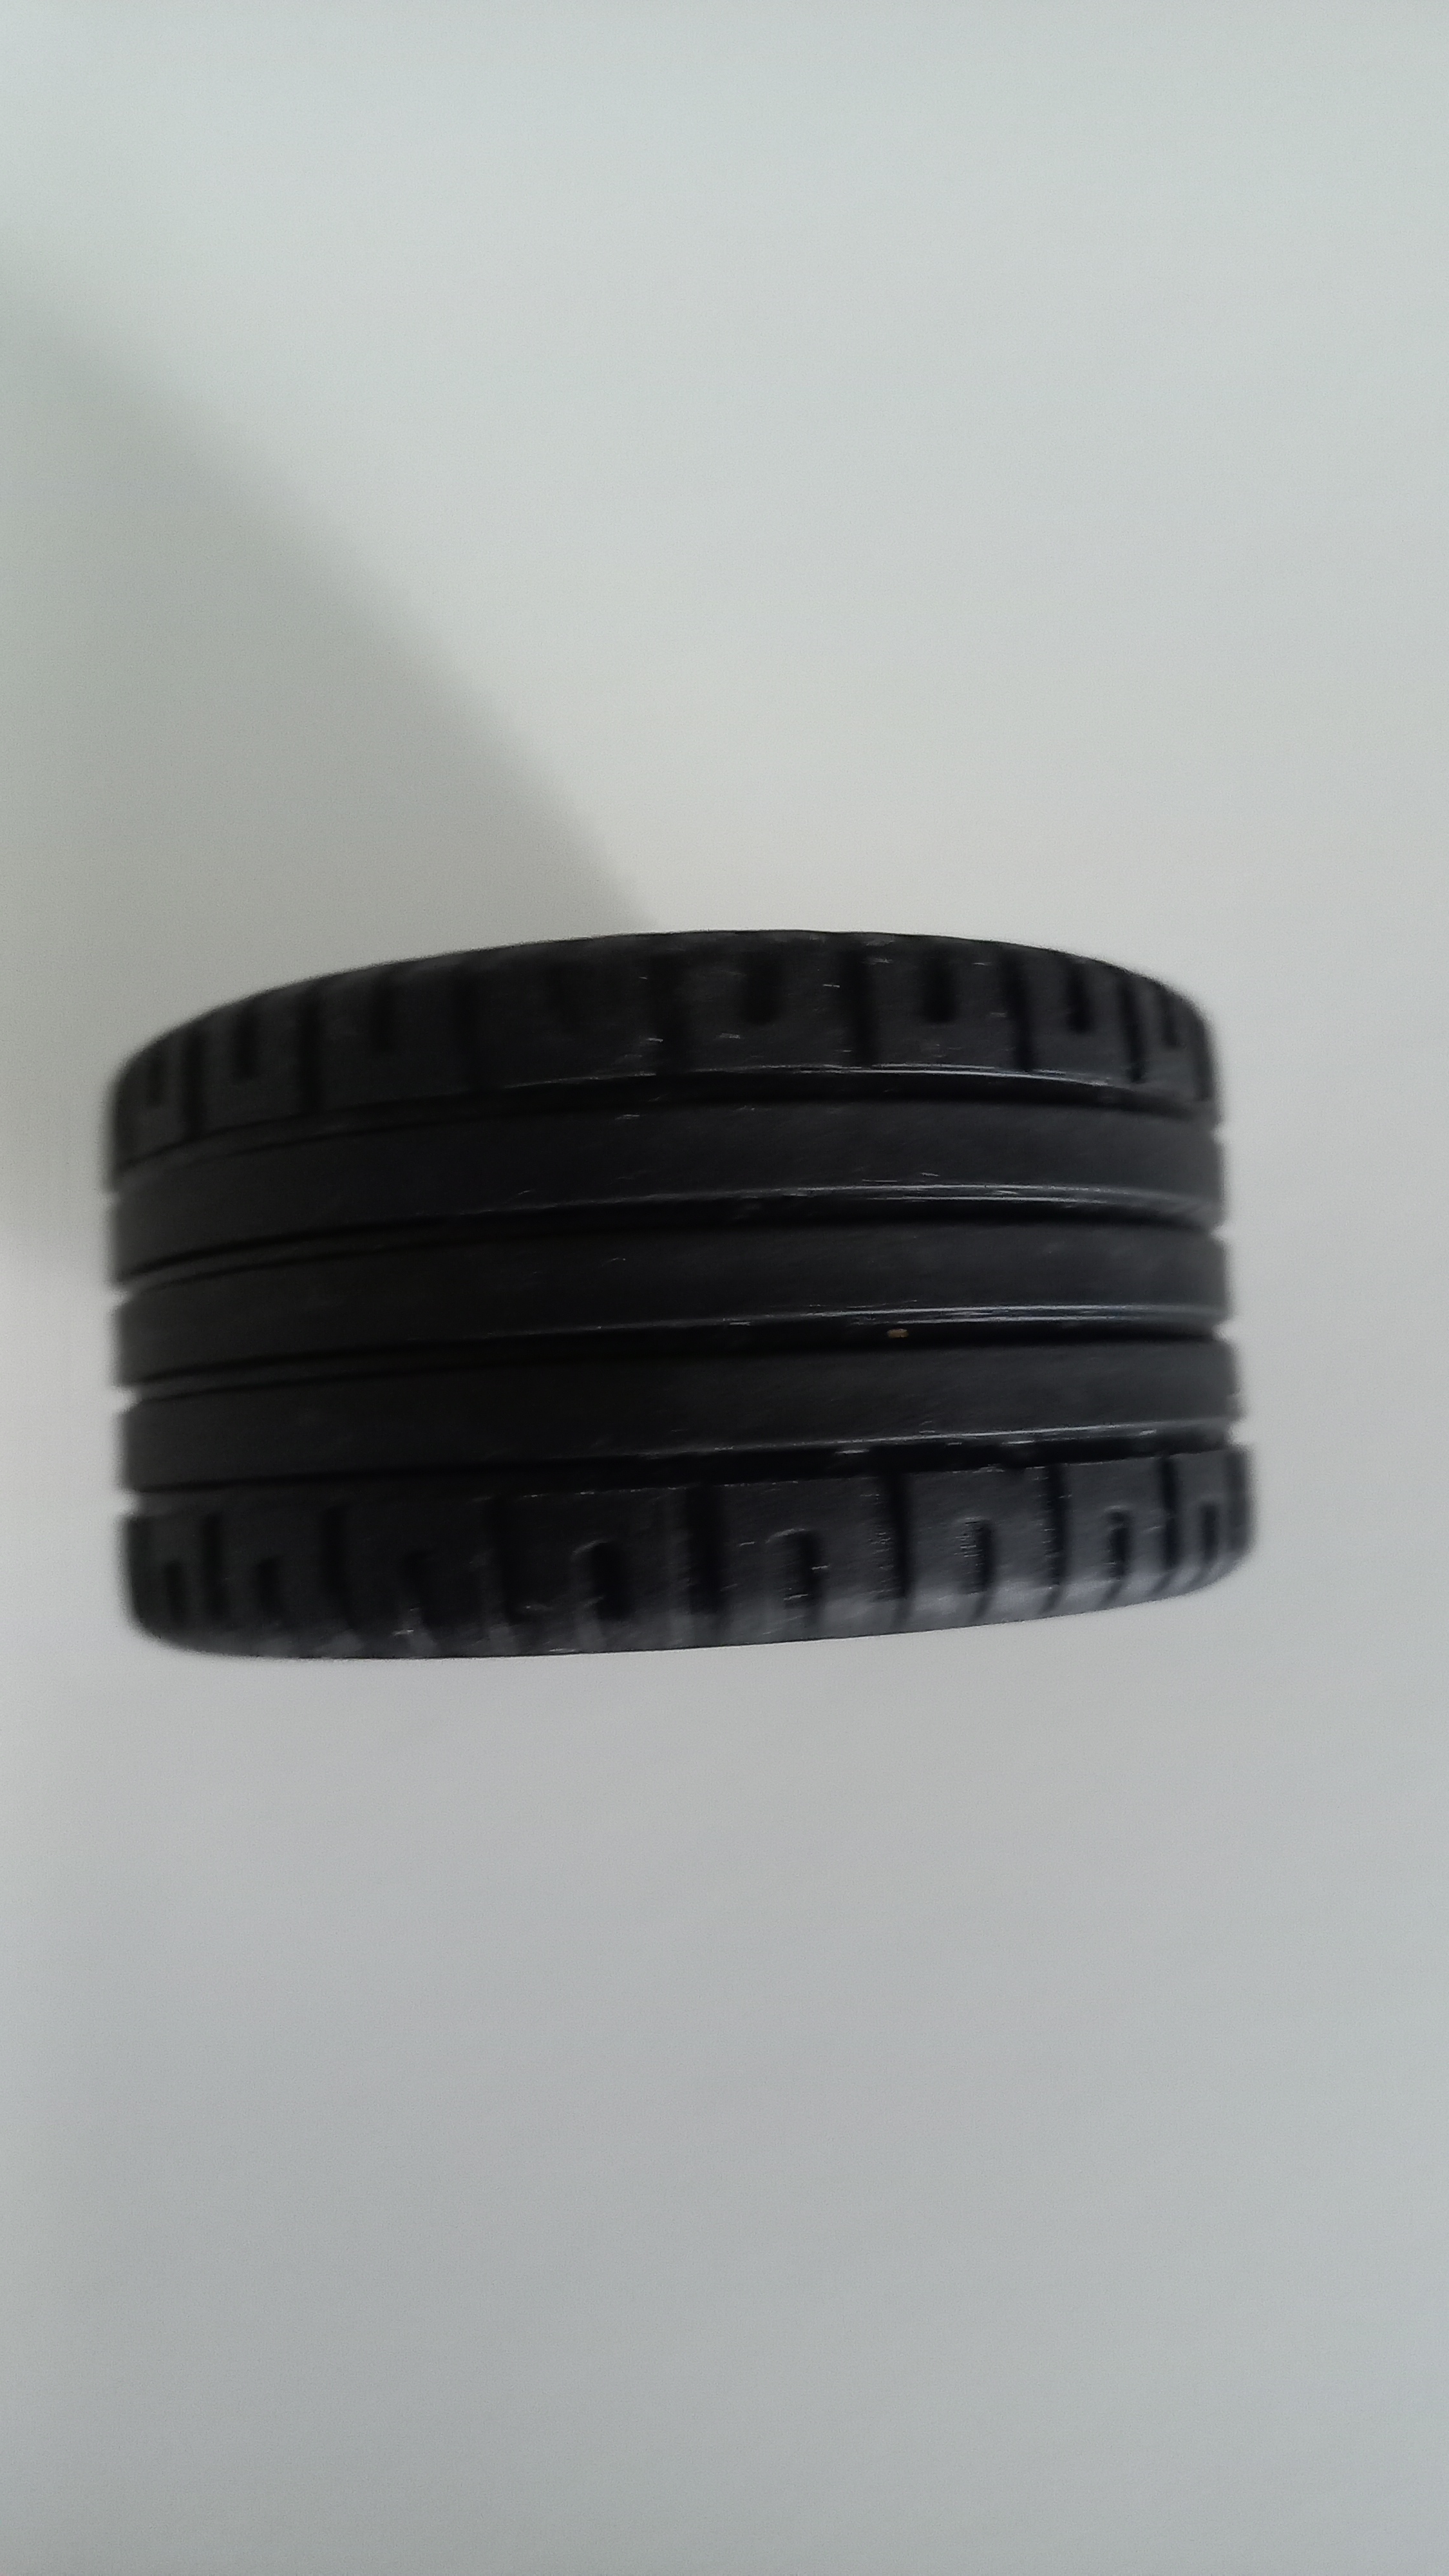Rad: (65, 913, 1295, 1677)
